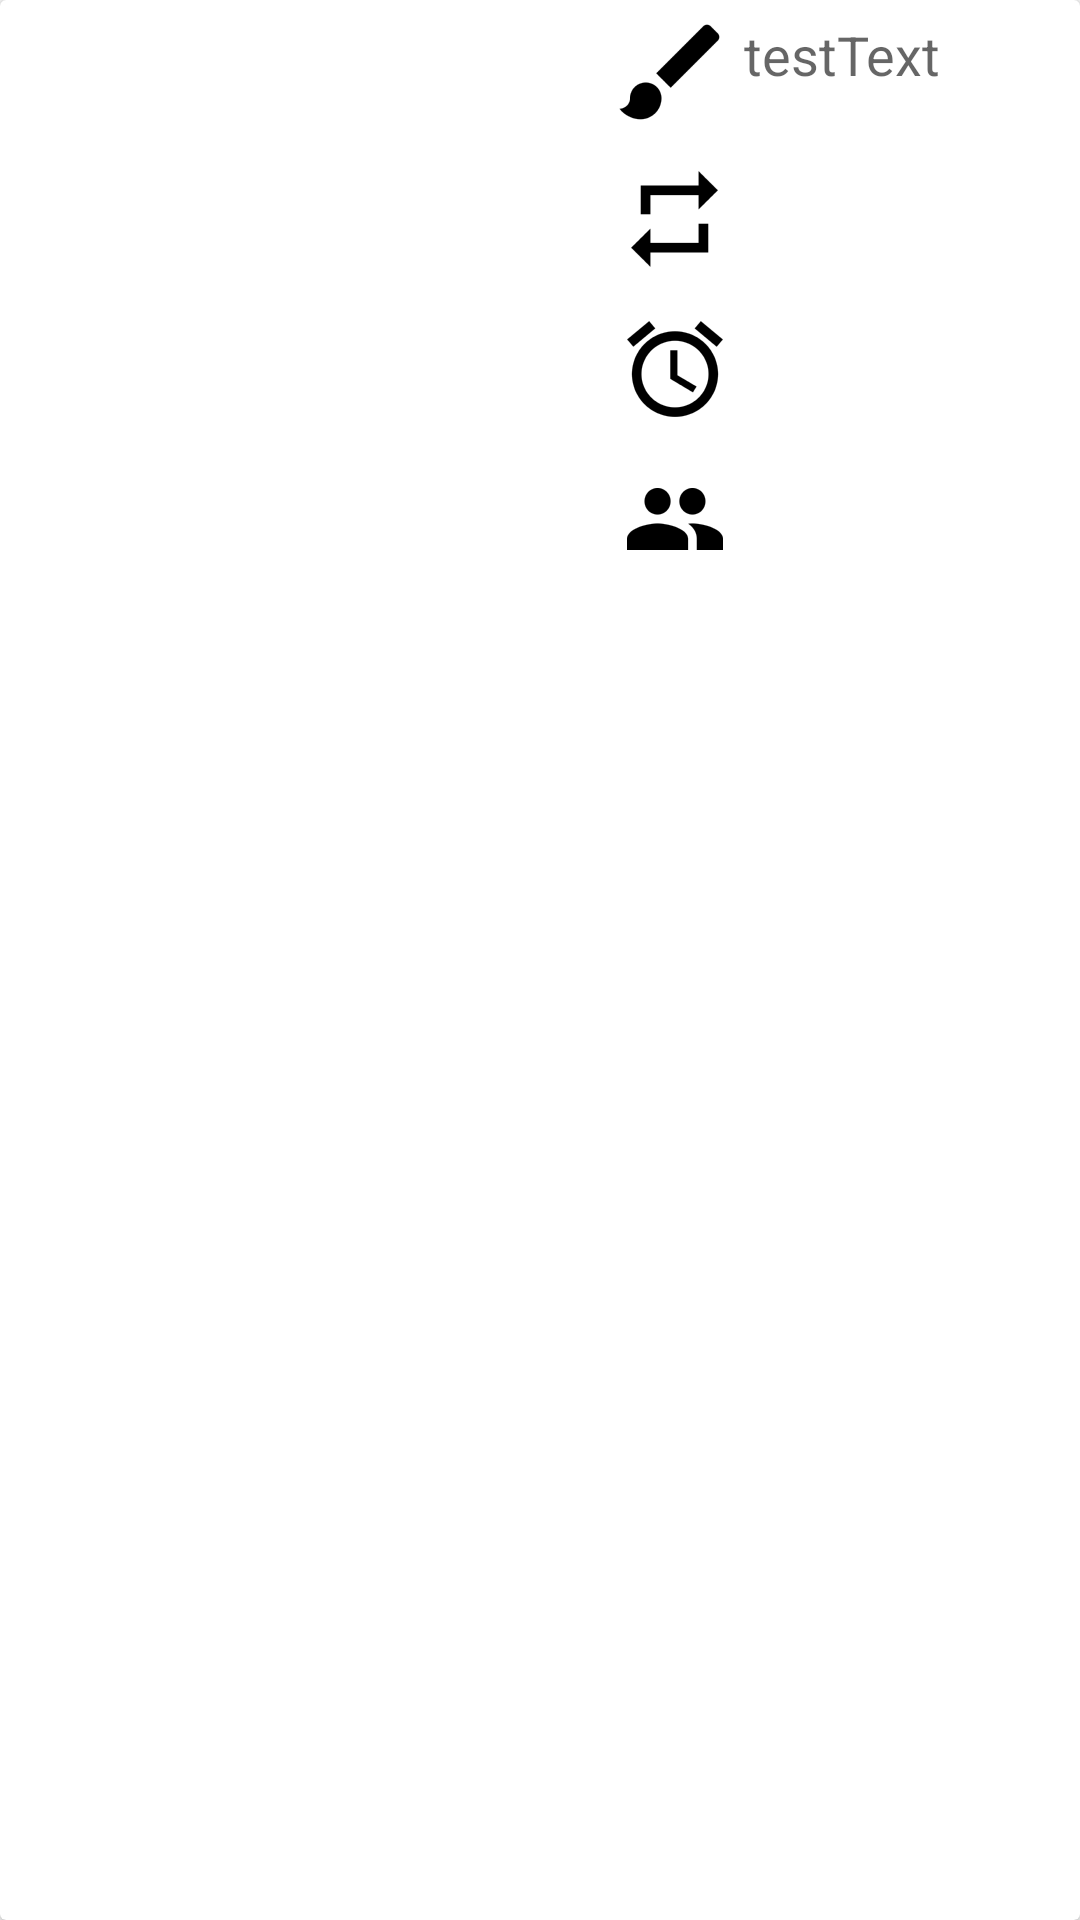

Icon click points for this 1080 x 1920 phone screenshot, format [x,y]:
alarm: [675,369]
av repeat: [674,219]
social people: [675,519]
